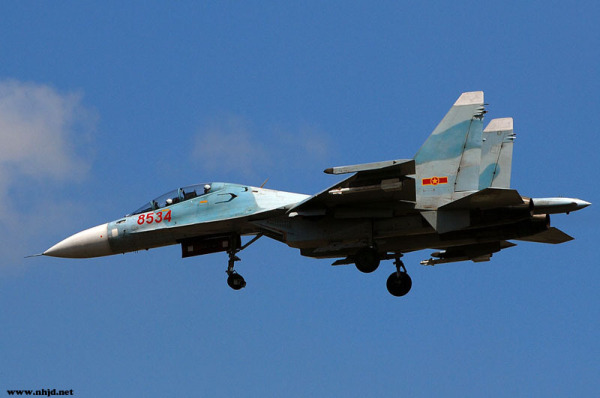airplane: (14, 84, 594, 300)
